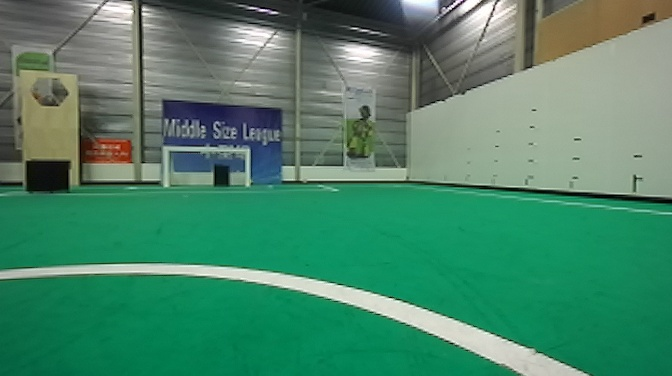goalpost: (160, 151, 170, 189), (242, 144, 249, 186)
